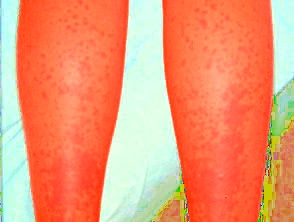SJS-TEN: (155, 0, 286, 222), (32, 0, 118, 222)
